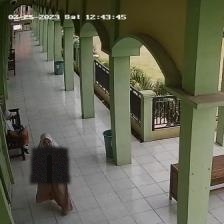Cadar_Niqab: (30, 128, 69, 183)
